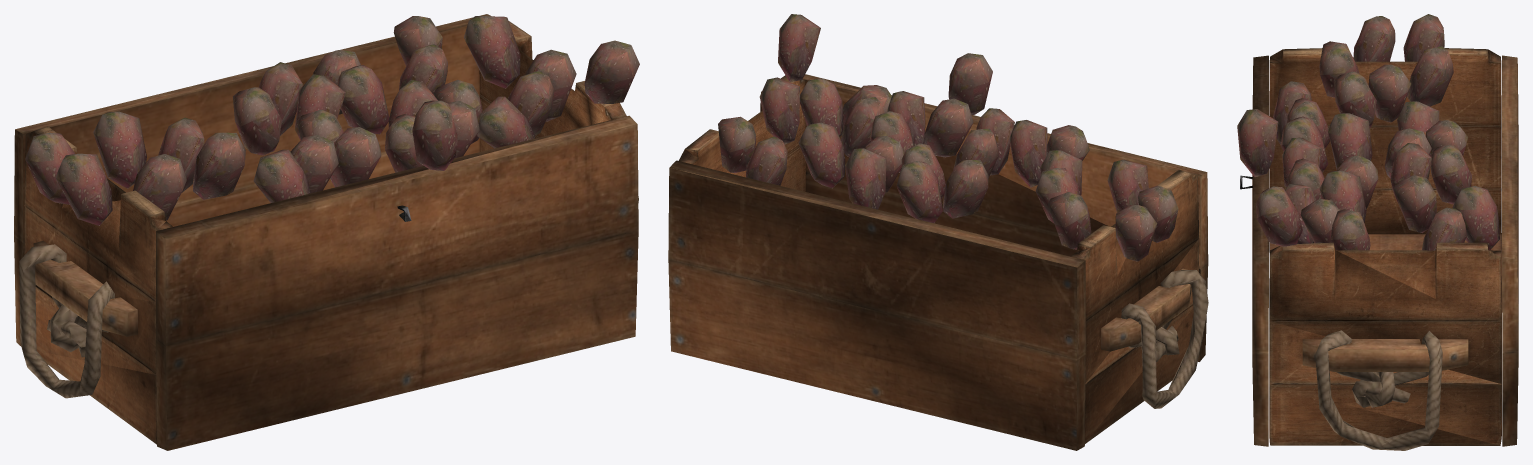
The model's file is RootCrate.glb.
The picture shows the model from 3 angles, left to right: view 1: azimuth 30°, elevation 25°; view 2: azimuth 150°, elevation 25°; view 3: azimuth 270°, elevation 25°; orthographic projection. The views are drawn at different scales.
Visible parts, largest first — view 1: RootCrate; view 2: RootCrate; view 3: RootCrate.
Part boxes in pixels (x1=…): RootCrate: x1=14, y1=14, x2=639, y2=450; RootCrate: x1=668, y1=14, x2=1208, y2=450; RootCrate: x1=1237, y1=14, x2=1518, y2=450.
Bounding box in the file's own units: 0.8202 × 0.4116 × 0.4102.
2 materials, 2 textured.
